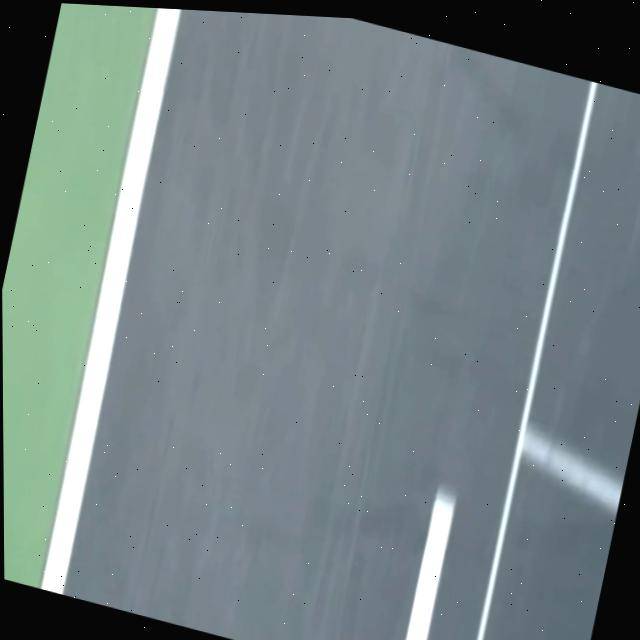center: (405, 488, 456, 640)
right: (40, 8, 181, 595)
